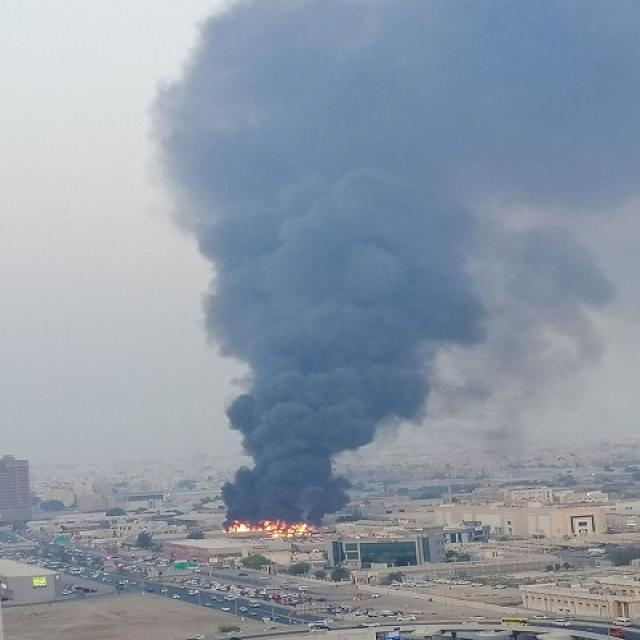Fire: (224, 518, 312, 536)
Smoke: (143, 8, 626, 516)
